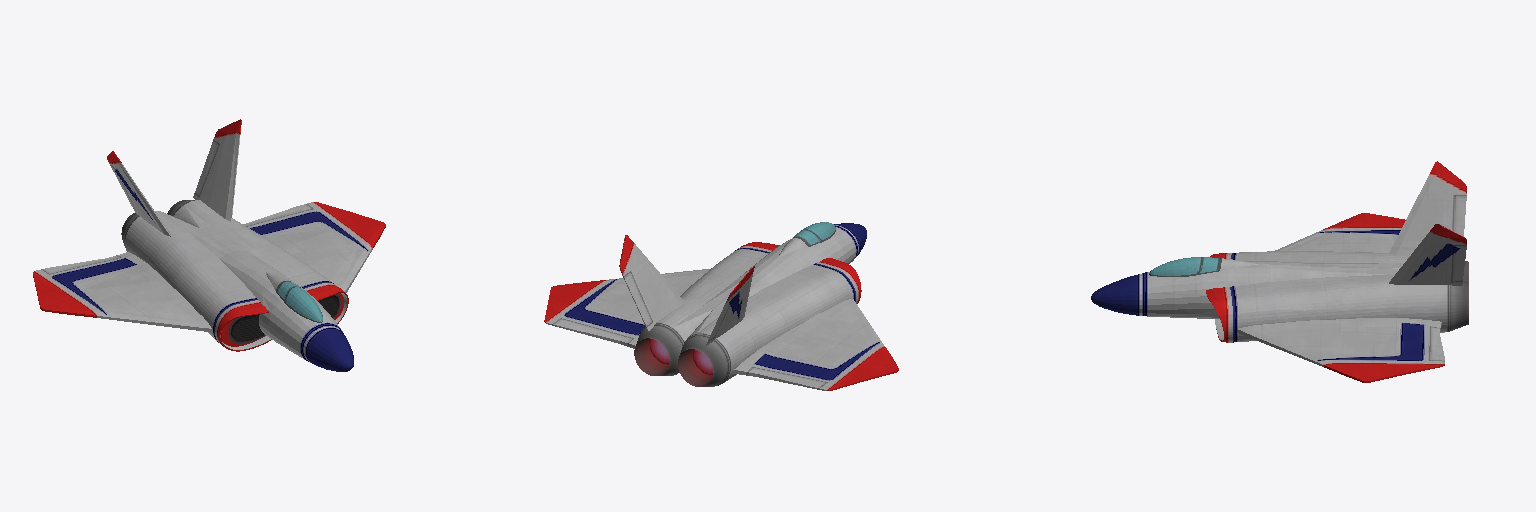
3 views of the same model, side by side, from view 1: azimuth 30°, elevation 25°; view 2: azimuth 150°, elevation 25°; view 3: azimuth 270°, elevation 25° (orthographic).
Parts seen in each view (by area): view 1: submesh; view 2: submesh; view 3: submesh.
Part boxes in pixels (x1,y1,x2,y2): submesh: (33, 119, 385, 371); submesh: (544, 222, 898, 390); submesh: (1091, 161, 1468, 382).
Size of the model in its own units: 9.79 by 3.45 by 9.33.
1 materials, 1 textured.